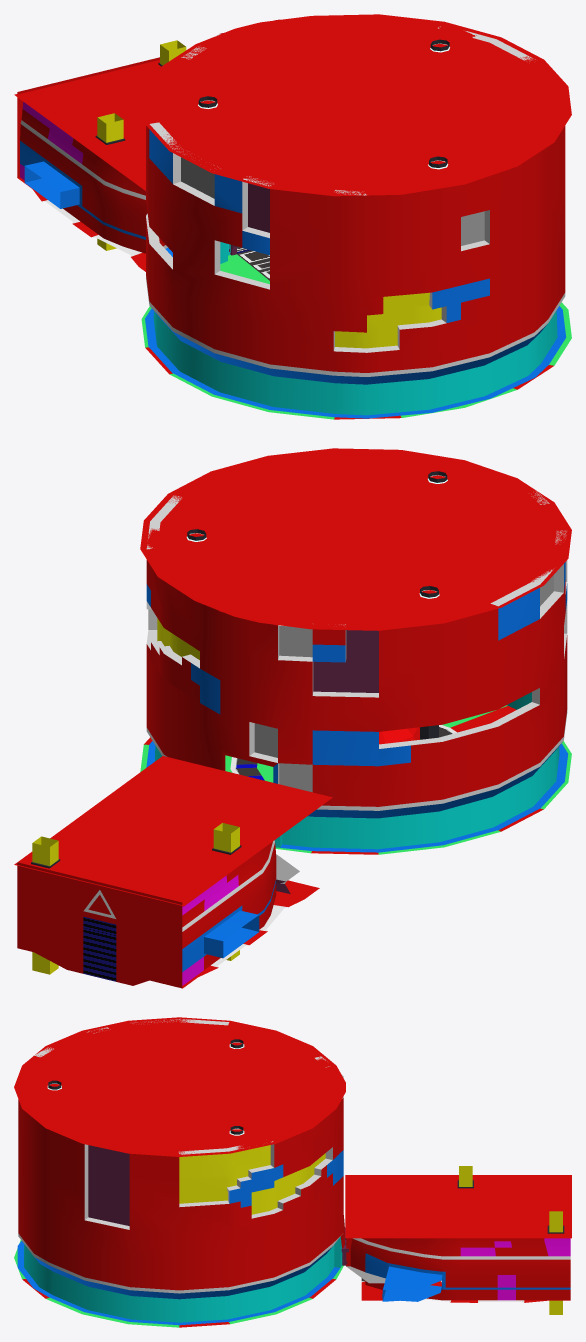
The model's file is NivelJefe-Wtex.fbx.
3 renders of one model, top to bottom at view 1: azimuth 30°, elevation 25°; view 2: azimuth 150°, elevation 25°; view 3: azimuth 270°, elevation 25°, orthographic. The views are drawn at different scales.
Parts seen in each view (by area): view 1: ParedesBoss, TechoBoss, pPlane2, Techo_Descanso, SueloBoss, Suelo_1, pPlane3, C_Columna_2h__1__1; view 2: ParedesBoss, TechoBoss, Techo_Descanso, pPlane3, pPlane2, SueloBoss, Suelo_1, C_Columna_2h__1_, C_Columna_2h__1__1; view 3: ParedesBoss, TechoBoss, Techo_Descanso, pPlane2, SueloBoss, Suelo_1.
Boxes of the visible parts, x1,y1,x2,y2 form: ParedesBoss: [145, 19, 566, 418]; TechoBoss: [141, 14, 571, 196]; pPlane2: [20, 102, 147, 253]; Techo_Descanso: [14, 60, 160, 190]; SueloBoss: [141, 249, 571, 419]; Suelo_1: [17, 177, 145, 271]; pPlane3: [17, 57, 159, 177]; C_Columna_2h__1__1: [97, 113, 123, 142]; ParedesBoss: [146, 491, 568, 852]; TechoBoss: [140, 448, 571, 630]; Techo_Descanso: [14, 756, 332, 906]; pPlane3: [17, 862, 182, 988]; pPlane2: [182, 840, 276, 985]; SueloBoss: [140, 705, 571, 854]; Suelo_1: [182, 880, 319, 988]; C_Columna_2h__1_: [32, 836, 58, 866]; C_Columna_2h__1__1: [213, 823, 239, 852]; ParedesBoss: [17, 1018, 344, 1325]; TechoBoss: [14, 1017, 345, 1156]; Techo_Descanso: [345, 1175, 571, 1238]; pPlane2: [346, 1238, 570, 1301]; SueloBoss: [14, 1240, 343, 1327]; Suelo_1: [361, 1278, 570, 1302].
Bounding box in the file's own units: 46.51 × 31.76 × 78.47.
